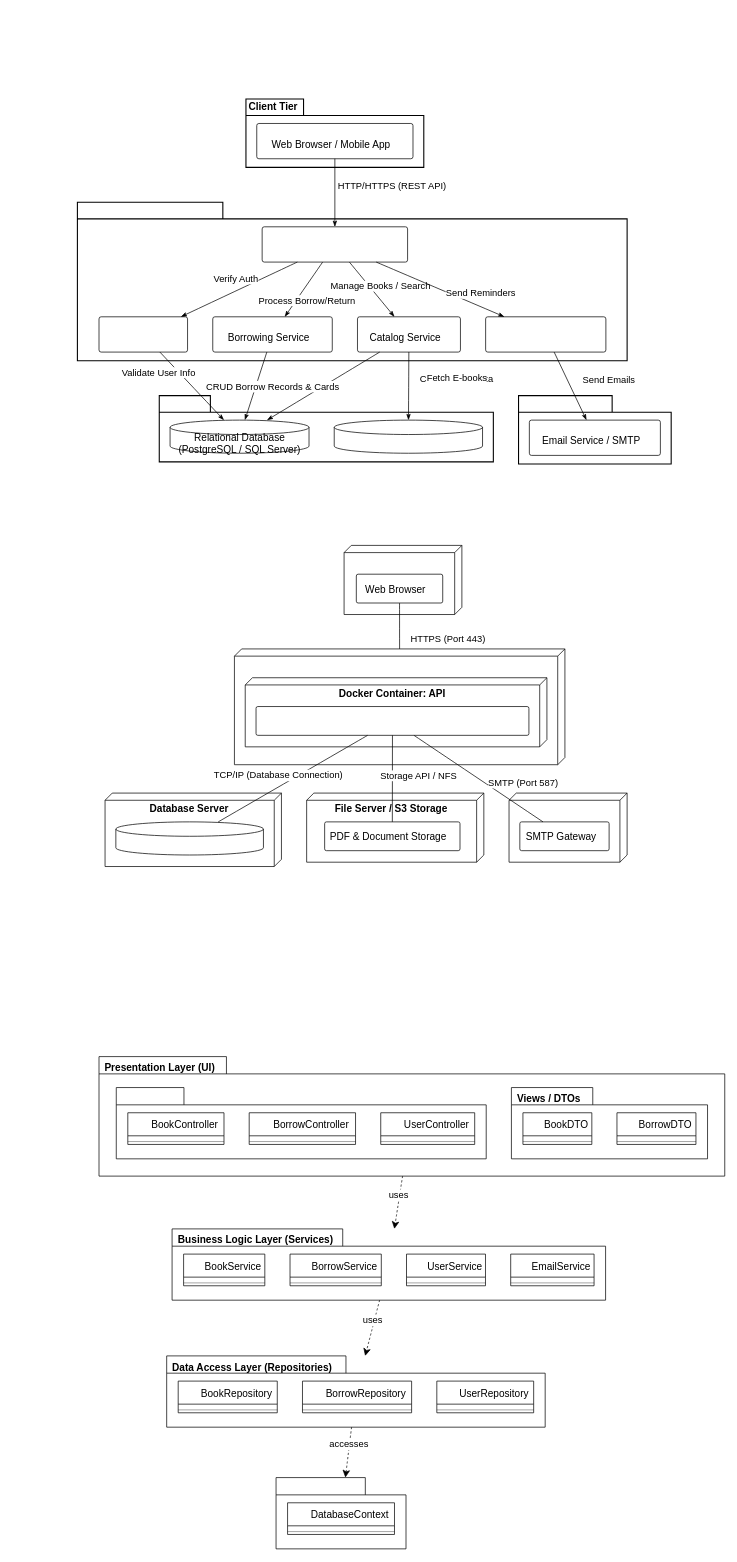
Image size: 737x1562. Some labels were removed from this diagram. Here are the shapes that lost their labels. From the top down, the box of each, then its label:
(261, 226, 408, 262): API Gateway / Controller
(77, 201, 627, 361): Application Server (Backend)
(98, 316, 188, 352): Auth Service
(485, 316, 606, 352): Notification Service
(158, 395, 494, 462): Data Tier
(334, 419, 483, 453): File Storage / Cloud Storage (PDF/Ebook Files)
(518, 395, 671, 464): External Services
(343, 545, 462, 615): Client Device
(255, 706, 529, 735): Library System Web API (.NET / Spring Boot / Django)
(234, 648, 565, 765): Web / Application Server
(115, 821, 263, 855): PostgreSQL / MSSQL Server
(508, 792, 627, 862): Mail Server
(116, 1087, 486, 1159): Controllers
(275, 1477, 406, 1549): Database Layer
